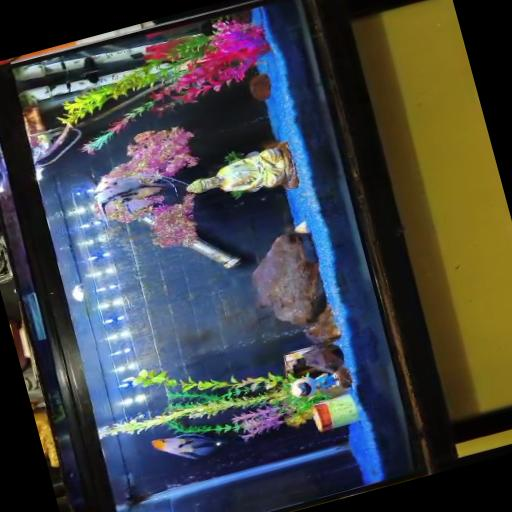Fish: (94, 174, 165, 215), (153, 433, 221, 458)
